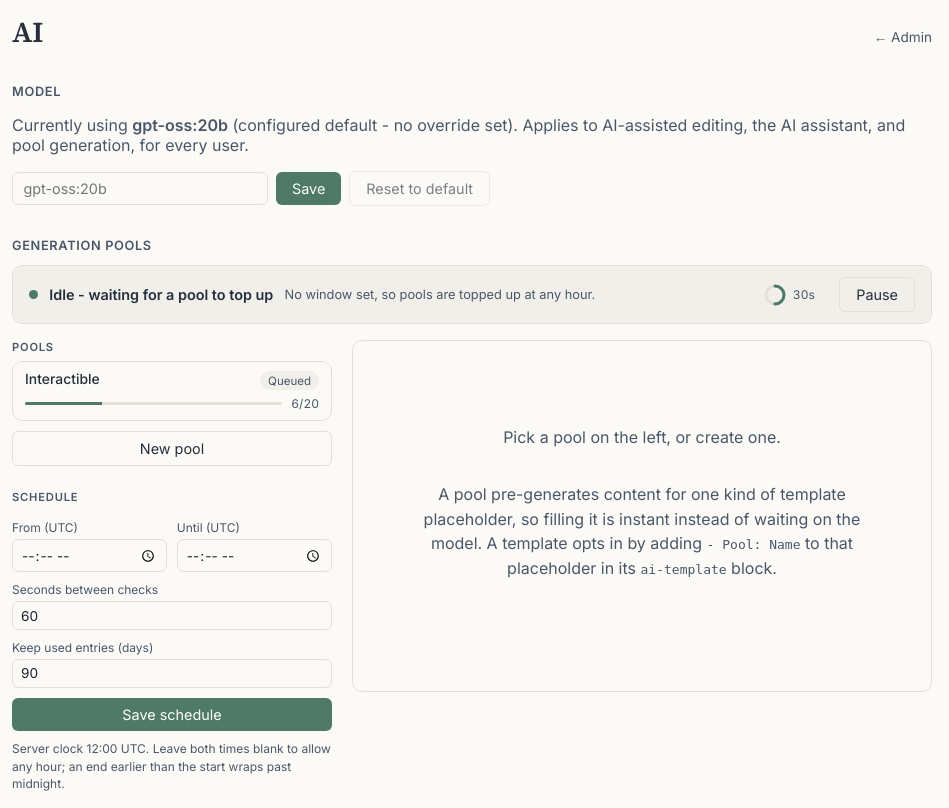
Scenario: AI page - pools › pausing sends the current settings with paused flipped
Click the button "Pause" at (877, 295), box [839,277,915,312]
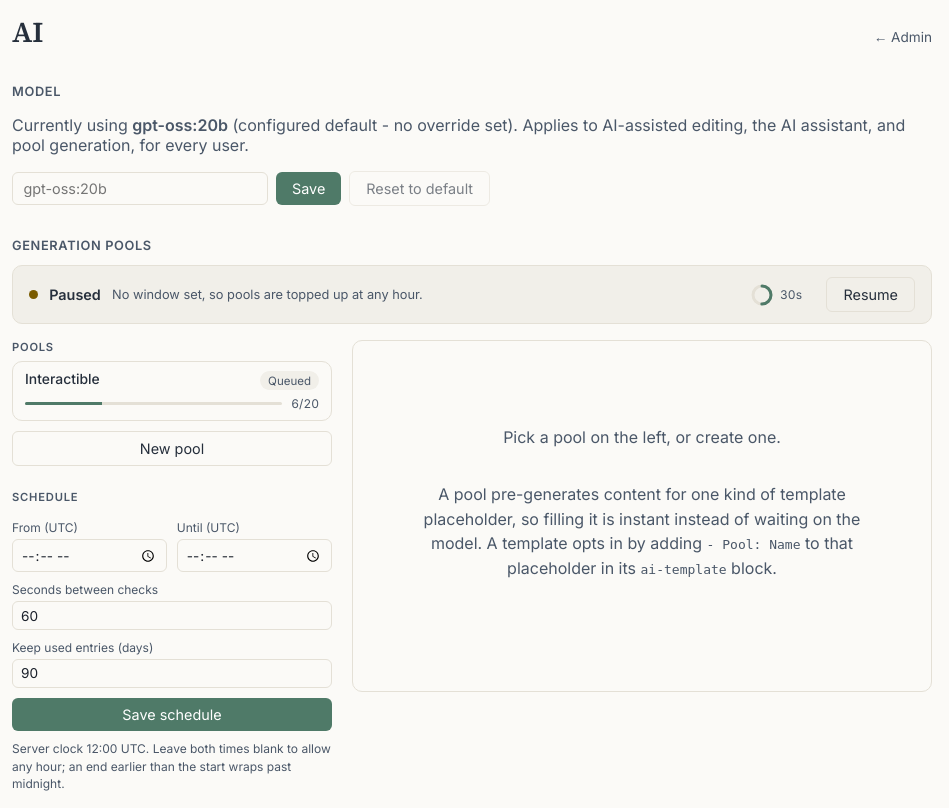
Check: the button "Resume" is shown, box [826,277,915,312]
